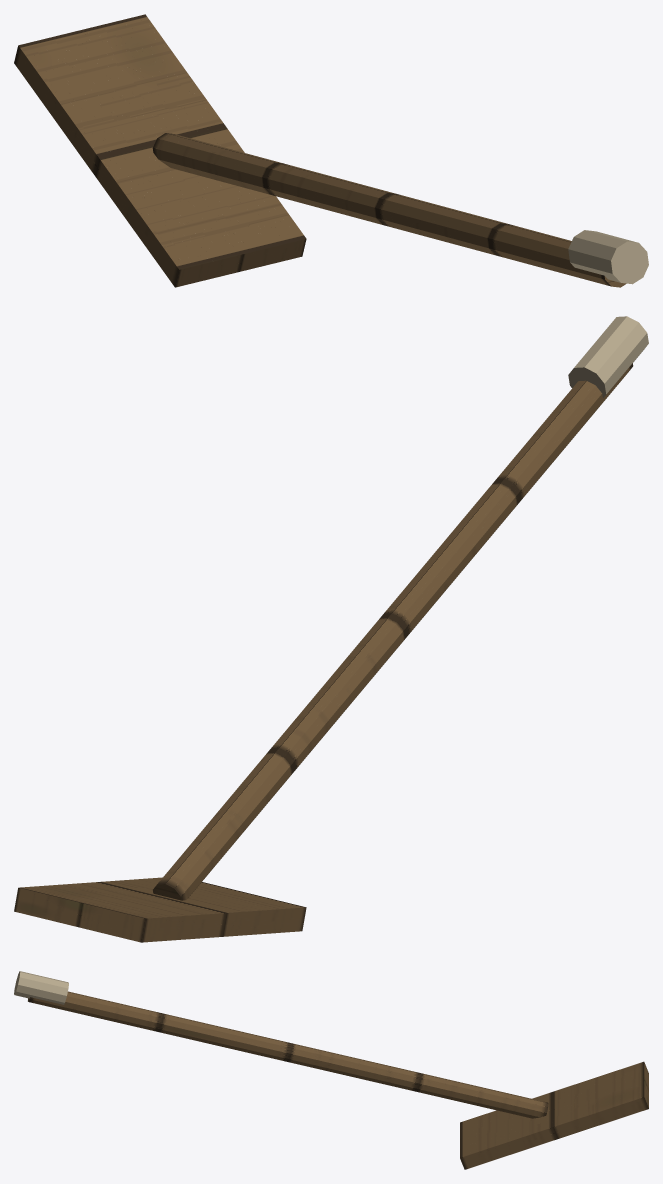
The model's file is ben-do-mai-cheo.glb.
The picture shows the model from 3 angles, top to bottom: view 1: azimuth 30°, elevation 25°; view 2: azimuth 150°, elevation 25°; view 3: azimuth 270°, elevation 25°; orthographic projection. The views are drawn at different scales.
Parts seen in each view (by area): view 1: ben-do-mai-cheo; view 2: ben-do-mai-cheo; view 3: ben-do-mai-cheo.
Boxes of the visible parts, left/top/right/bottom form: ben-do-mai-cheo: left=14, top=14, right=648, bottom=287; ben-do-mai-cheo: left=14, top=316, right=648, bottom=942; ben-do-mai-cheo: left=14, top=971, right=648, bottom=1169.
Size of the model in its own units: 0.3 by 0.7094 by 2.27.
Materials: 2 (1 with a texture image).
